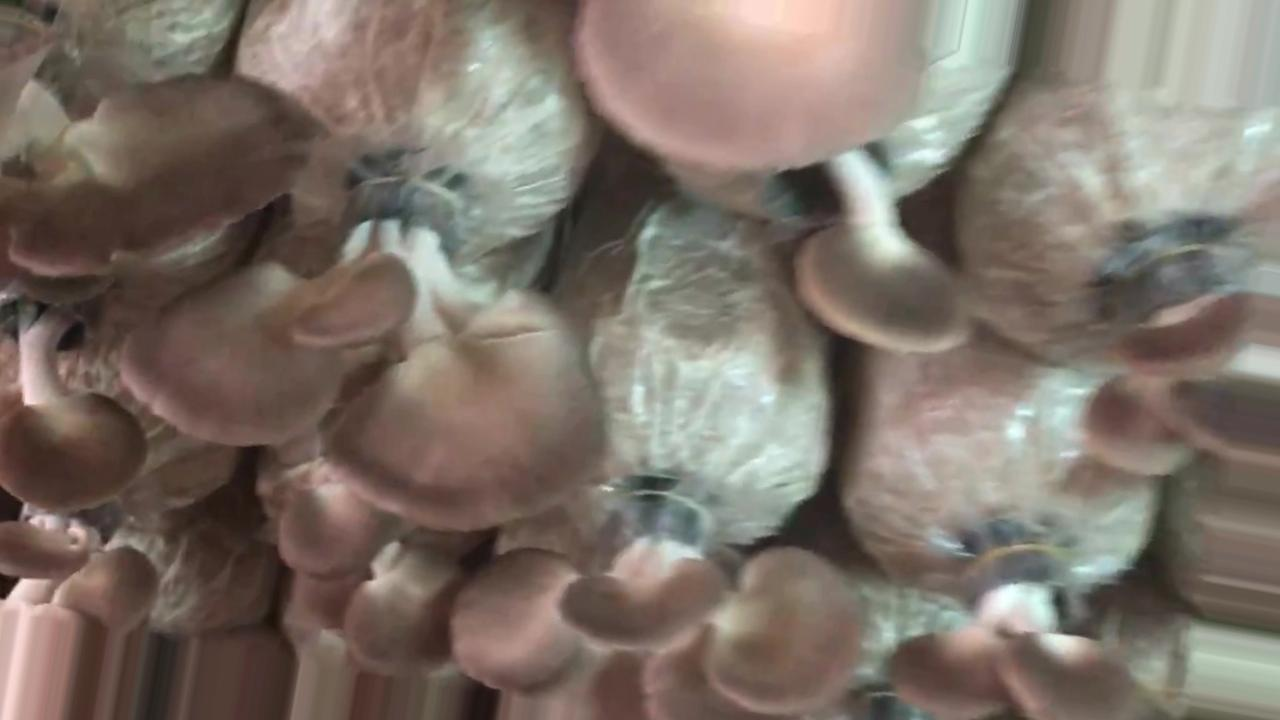nam: (125, 179, 598, 533), (455, 487, 863, 718), (1, 13, 306, 274), (576, 1, 913, 169), (896, 546, 1160, 720), (1084, 246, 1280, 473), (763, 148, 970, 355), (1, 295, 141, 514), (348, 555, 452, 677), (276, 483, 380, 578)
